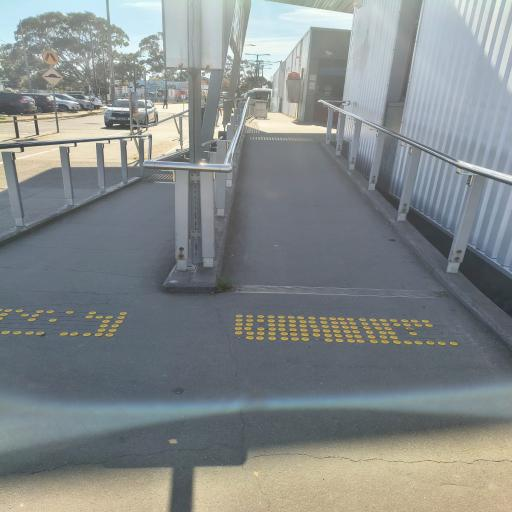handrail: (323, 102, 510, 335), (3, 138, 151, 243)
ramp: (217, 134, 454, 298), (0, 176, 207, 277)
tgsi: (238, 314, 460, 347), (0, 307, 125, 339)
